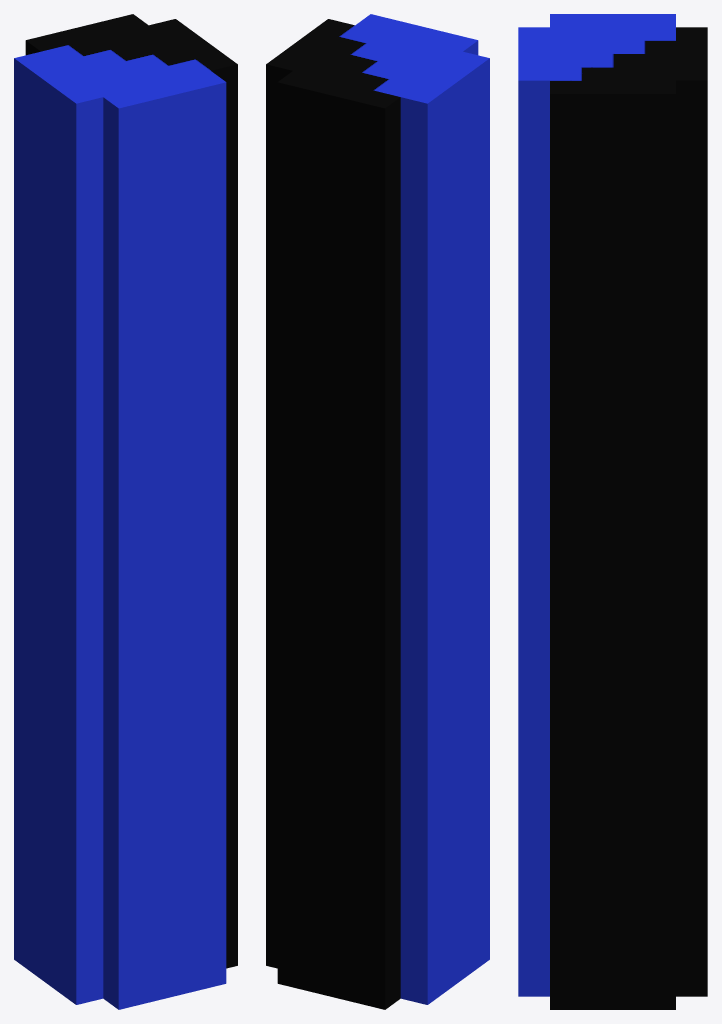
Rendered from TreeTrunk.obj.
The picture shows the model from 3 angles, left to right: view 1: azimuth 30°, elevation 25°; view 2: azimuth 150°, elevation 25°; view 3: azimuth 270°, elevation 25°; orthographic projection.
Parts seen in each view (by area): view 1: TreeTrunk; view 2: TreeTrunk; view 3: TreeTrunk.
Part boxes in pixels (x1=…): TreeTrunk: x1=14, y1=14, x2=237, y2=1009; TreeTrunk: x1=266, y1=14, x2=489, y2=1009; TreeTrunk: x1=518, y1=14, x2=707, y2=1009.
Size of the model in its own units: 0.6 by 3.2 by 0.6.
1 material, 1 textured.
